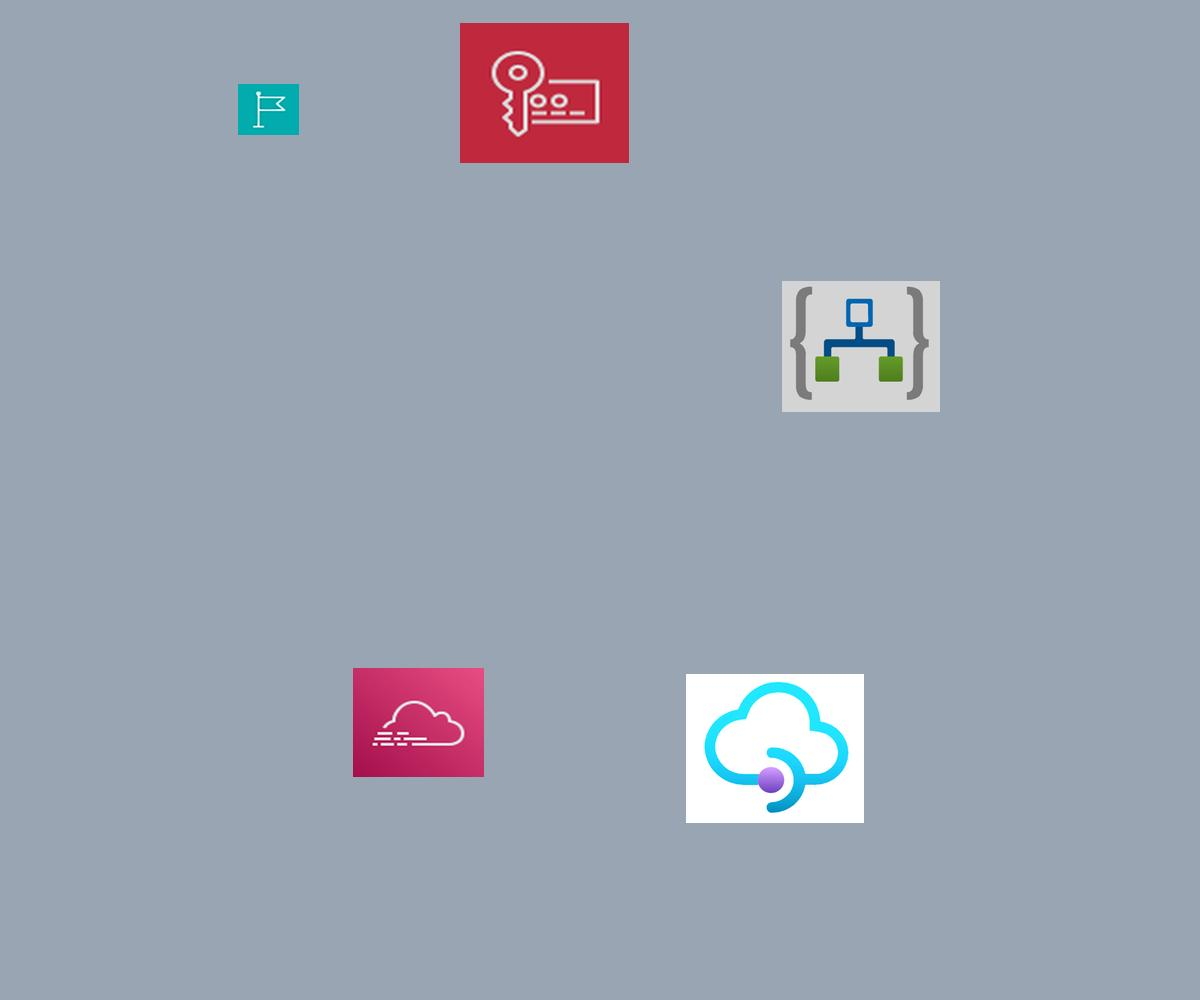AWS-CloudTrail: (353, 668, 484, 777)
AWS-Key-Management-Service: (460, 23, 629, 163)
AWS-Region: (238, 84, 299, 135)
Azure_api_gateway: (686, 674, 864, 823)
Azure_integration-204-Logic-Apps: (782, 281, 940, 412)
